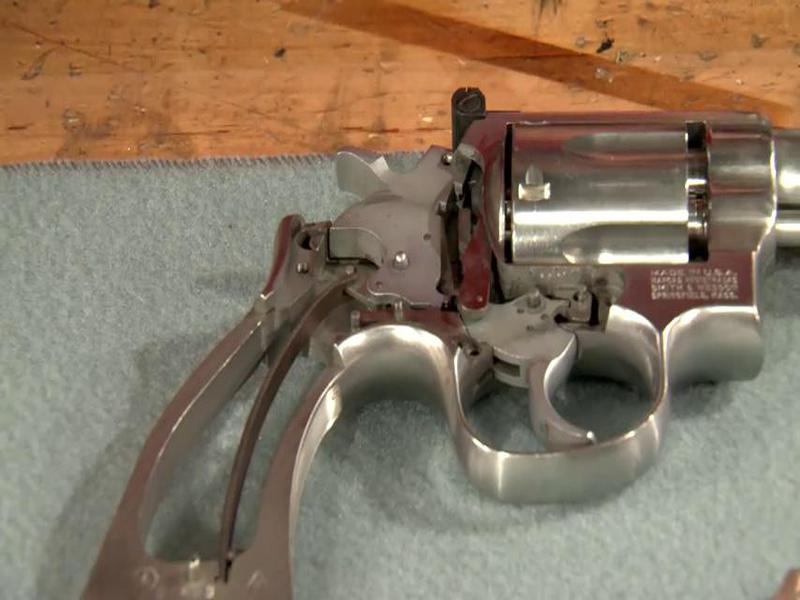Revolver: (93, 56, 800, 598)
